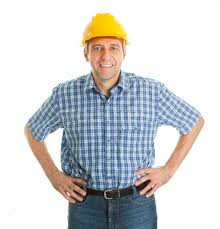Person_wearing_helmet: (77, 11, 130, 59)
